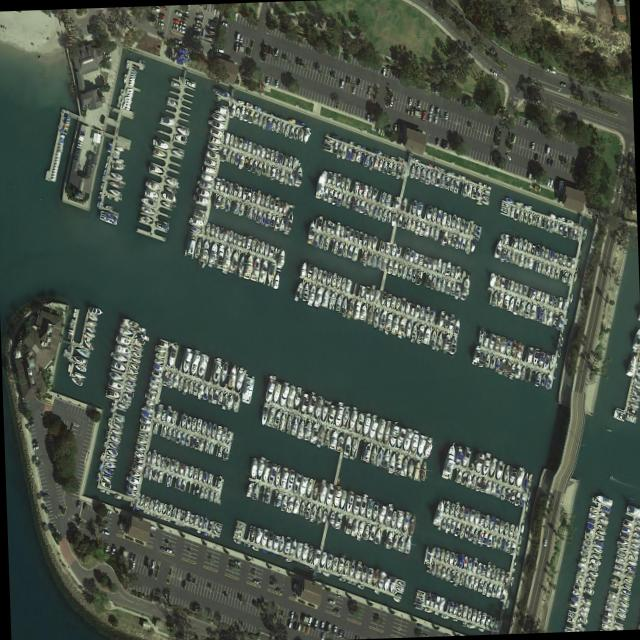ship: (42, 420, 65, 506), (441, 440, 458, 480), (240, 374, 255, 405), (432, 499, 445, 527), (315, 171, 326, 199), (243, 254, 255, 279), (190, 349, 201, 376), (181, 347, 192, 374), (283, 210, 294, 236), (460, 275, 471, 301), (227, 362, 238, 388), (99, 210, 118, 225), (250, 256, 261, 281), (258, 259, 269, 284), (196, 354, 207, 378), (229, 249, 240, 272), (265, 262, 276, 285), (278, 384, 289, 407), (264, 381, 275, 404), (402, 428, 413, 451), (388, 424, 399, 447), (313, 285, 324, 308), (626, 354, 637, 377), (595, 493, 613, 507), (222, 246, 232, 271), (122, 317, 141, 330), (276, 248, 287, 270), (215, 243, 225, 267), (286, 385, 296, 409), (315, 424, 325, 448), (213, 87, 231, 100), (423, 545, 434, 566), (279, 467, 289, 490), (332, 485, 342, 508), (294, 166, 304, 188), (354, 412, 364, 434), (167, 345, 177, 367), (368, 417, 378, 439), (324, 483, 334, 505), (387, 452, 397, 474), (471, 344, 481, 366), (293, 280, 303, 302), (209, 241, 218, 265), (343, 434, 352, 458), (310, 421, 319, 445), (307, 283, 316, 307), (355, 520, 365, 541), (423, 439, 433, 460), (409, 433, 419, 454), (396, 427, 406, 448), (515, 467, 525, 488), (474, 452, 484, 473), (390, 314, 400, 335), (140, 195, 156, 208), (201, 239, 210, 262), (334, 405, 343, 428), (314, 395, 323, 418), (394, 453, 403, 476), (108, 370, 125, 382), (375, 419, 385, 439), (298, 476, 308, 496), (292, 474, 302, 494), (362, 442, 372, 462), (377, 504, 387, 524), (416, 435, 426, 455), (408, 513, 417, 535), (219, 361, 228, 383), (212, 361, 221, 383), (384, 505, 393, 527), (372, 307, 381, 329), (612, 408, 626, 422), (82, 337, 95, 352), (75, 345, 90, 358), (116, 334, 132, 346), (72, 354, 88, 366), (108, 379, 124, 391), (187, 235, 196, 256), (237, 253, 246, 274), (235, 370, 244, 391), (362, 415, 371, 436), (320, 400, 329, 421), (272, 382, 281, 403), (382, 422, 391, 443), (286, 471, 295, 492), (358, 495, 367, 516), (352, 495, 361, 516), (345, 493, 354, 514), (267, 463, 276, 484), (260, 405, 269, 426), (266, 406, 275, 427), (329, 429, 338, 450), (303, 421, 312, 442), (353, 300, 362, 321), (209, 119, 226, 130), (114, 344, 131, 355), (193, 239, 202, 259), (149, 164, 164, 176), (153, 147, 168, 159), (111, 360, 126, 372), (377, 570, 386, 590), (307, 395, 316, 415), (300, 393, 309, 413), (305, 477, 314, 497), (375, 448, 384, 468), (272, 410, 281, 430), (290, 417, 299, 437), (296, 420, 305, 440), (502, 463, 511, 483), (321, 288, 330, 308), (301, 282, 310, 302), (384, 312, 393, 332), (493, 239, 502, 259), (112, 352, 128, 363), (319, 482, 327, 504), (401, 513, 410, 532), (260, 528, 269, 547), (389, 510, 398, 529), (348, 410, 357, 429), (341, 408, 350, 427), (293, 389, 302, 408), (285, 495, 294, 514), (350, 518, 359, 537), (256, 459, 265, 478), (382, 449, 391, 468), (251, 482, 260, 501), (481, 456, 490, 475), (461, 449, 470, 468), (442, 332, 451, 351), (397, 316, 406, 335), (423, 326, 432, 345), (70, 375, 83, 388), (176, 125, 190, 137), (413, 460, 421, 481), (407, 457, 415, 478), (201, 164, 216, 175), (212, 112, 227, 123), (155, 140, 170, 151), (161, 191, 176, 202), (119, 326, 134, 337), (141, 205, 156, 216), (289, 537, 298, 555), (283, 536, 292, 554), (388, 575, 397, 593), (371, 567, 380, 585), (280, 494, 289, 512), (454, 448, 463, 466), (88, 306, 104, 316), (312, 480, 320, 500), (262, 462, 270, 482), (165, 176, 178, 188), (209, 127, 223, 138), (147, 181, 161, 192), (250, 457, 257, 479), (312, 549, 321, 566), (472, 224, 481, 241), (537, 351, 546, 368), (404, 536, 412, 555), (385, 531, 393, 550), (365, 566, 373, 585), (396, 510, 404, 529), (221, 391, 229, 410), (365, 500, 373, 519), (345, 516, 353, 535), (339, 490, 347, 509), (400, 457, 408, 476), (369, 446, 377, 465), (350, 438, 358, 457), (336, 434, 344, 453), (495, 461, 503, 480), (488, 459, 496, 478), (328, 291, 336, 310), (449, 336, 457, 355), (366, 304, 374, 323), (379, 309, 387, 328), (512, 297, 520, 316), (144, 189, 159, 199), (308, 219, 315, 240), (147, 528, 155, 546), (255, 527, 263, 545), (360, 564, 368, 582), (354, 563, 362, 581), (325, 552, 333, 570), (328, 405, 336, 423), (304, 501, 312, 519), (155, 403, 163, 421), (526, 347, 534, 365), (340, 297, 348, 315), (347, 298, 355, 316), (359, 303, 367, 321), (299, 261, 307, 279), (453, 317, 461, 335), (429, 328, 437, 346), (171, 147, 184, 158), (174, 133, 187, 144), (110, 170, 123, 181), (109, 187, 122, 198), (206, 143, 220, 153), (195, 195, 209, 205), (191, 217, 205, 227), (107, 389, 121, 399), (155, 221, 169, 231), (274, 466, 281, 486), (420, 461, 427, 481), (220, 426, 228, 443), (210, 422, 218, 439), (397, 535, 405, 552), (295, 542, 303, 559), (248, 525, 256, 542), (383, 575, 391, 592), (337, 557, 345, 574), (162, 370, 170, 387), (309, 503, 317, 520), (374, 527, 382, 544), (362, 524, 370, 541), (371, 504, 379, 521), (534, 371, 542, 388), (488, 333, 496, 350), (415, 269, 423, 286), (417, 324, 425, 341), (518, 300, 526, 317), (502, 293, 510, 310), (303, 126, 310, 145), (279, 412, 286, 431), (625, 413, 637, 424), (208, 135, 221, 145), (206, 150, 219, 160), (204, 157, 217, 167), (199, 180, 212, 190), (163, 184, 176, 194), (74, 363, 87, 373), (127, 475, 140, 485), (429, 275, 437, 291), (165, 407, 173, 423), (272, 534, 280, 550), (301, 545, 309, 561), (331, 556, 339, 572), (167, 372, 175, 388), (292, 498, 300, 514), (368, 525, 376, 541), (444, 518, 452, 534), (453, 522, 461, 538), (499, 485, 507, 501), (429, 170, 437, 186), (504, 359, 512, 375), (477, 327, 485, 343), (415, 201, 423, 217), (457, 552, 465, 568), (490, 291, 498, 307), (193, 210, 207, 219), (161, 117, 175, 126), (273, 272, 280, 290), (109, 180, 123, 189), (278, 534, 285, 552), (334, 512, 341, 530), (522, 472, 529, 490), (494, 334, 501, 352), (335, 294, 342, 312), (529, 303, 536, 321), (199, 188, 211, 198), (161, 199, 173, 209), (391, 261, 399, 276), (499, 357, 507, 372), (325, 271, 333, 286), (454, 283, 461, 300), (202, 384, 209, 401), (197, 383, 204, 400), (509, 467, 516, 484), (472, 528, 479, 545), (475, 476, 482, 493), (548, 354, 555, 371), (448, 314, 455, 331), (545, 372, 552, 389), (524, 302, 531, 319), (557, 314, 564, 331), (74, 371, 87, 380), (104, 461, 117, 470), (139, 423, 152, 432), (245, 234, 252, 250), (327, 188, 334, 204), (331, 190, 338, 206), (371, 206, 379, 220), (368, 155, 375, 171), (229, 103, 236, 119), (238, 154, 245, 170), (220, 147, 227, 163), (215, 425, 222, 441), (205, 421, 212, 437), (200, 419, 207, 435), (185, 415, 192, 431), (320, 551, 327, 567), (348, 562, 355, 578), (227, 393, 234, 409), (298, 500, 305, 516), (328, 510, 335, 526), (246, 482, 253, 498), (324, 430, 331, 446), (401, 264, 408, 280), (387, 259, 394, 275), (514, 491, 521, 507), (488, 515, 495, 531), (470, 474, 477, 490), (419, 167, 426, 183), (425, 169, 432, 185), (499, 338, 506, 354), (505, 340, 512, 356), (543, 354, 550, 370), (410, 199, 417, 215), (306, 263, 313, 279), (436, 331, 443, 347), (486, 582, 493, 598), (546, 310, 553, 326), (541, 307, 548, 323), (535, 306, 542, 322), (201, 173, 213, 182), (138, 430, 150, 439), (133, 449, 145, 458), (100, 480, 112, 489), (105, 454, 117, 463), (141, 410, 153, 419), (278, 217, 285, 232), (265, 211, 272, 226), (258, 240, 265, 255), (440, 278, 447, 293), (425, 273, 432, 288), (325, 219, 332, 234), (343, 226, 350, 241), (256, 161, 263, 176), (218, 177, 225, 192), (392, 534, 399, 549), (180, 413, 187, 428), (190, 417, 197, 432), (307, 546, 314, 561), (217, 390, 224, 405), (192, 381, 199, 396), (187, 379, 194, 394), (177, 376, 184, 391), (316, 506, 323, 521), (396, 263, 403, 278), (469, 508, 476, 523), (486, 533, 493, 548), (460, 471, 467, 486), (465, 473, 472, 488), (495, 483, 502, 498), (464, 238, 471, 253), (454, 235, 461, 250), (450, 213, 457, 228), (426, 205, 433, 220), (414, 165, 421, 180), (434, 172, 441, 187), (439, 174, 446, 189), (516, 344, 523, 359), (509, 363, 516, 378), (532, 350, 539, 365), (414, 220, 421, 235), (479, 350, 486, 365), (489, 354, 496, 369), (224, 198, 231, 213), (330, 273, 337, 288), (311, 266, 318, 281), (380, 257, 387, 272), (337, 241, 344, 256), (332, 239, 339, 254), (322, 236, 329, 251), (318, 234, 325, 249), (313, 233, 320, 248), (438, 312, 445, 327), (442, 313, 449, 328), (524, 367, 531, 382), (485, 563, 492, 578), (430, 561, 437, 576), (444, 567, 451, 582), (481, 580, 488, 595), (477, 578, 484, 593), (497, 292, 504, 307), (139, 417, 152, 425), (264, 487, 270, 504), (459, 523, 465, 540), (191, 225, 202, 234), (85, 330, 96, 339), (114, 414, 125, 423), (124, 384, 135, 393), (110, 434, 121, 443), (107, 448, 118, 457), (126, 489, 137, 498), (149, 381, 160, 390), (590, 558, 601, 567), (222, 228, 229, 242), (247, 206, 254, 220), (381, 209, 388, 223), (386, 161, 393, 175), (366, 185, 373, 199), (233, 201, 240, 215), (406, 266, 413, 280), (363, 154, 370, 168), (219, 196, 226, 210), (247, 110, 254, 124), (288, 125, 295, 139), (216, 475, 223, 489), (187, 464, 194, 478), (164, 457, 171, 471), (188, 435, 195, 449), (182, 378, 189, 392), (172, 374, 179, 388), (508, 523, 515, 537), (483, 514, 490, 528), (485, 480, 492, 494), (440, 212, 447, 226), (443, 176, 450, 190), (448, 178, 455, 192), (461, 184, 468, 198), (400, 197, 407, 211), (484, 353, 491, 367), (320, 270, 327, 284), (347, 245, 354, 259), (342, 243, 349, 257), (399, 299, 406, 313), (480, 612, 487, 626), (438, 597, 445, 611), (435, 564, 442, 578), (443, 550, 450, 564), (448, 551, 455, 565), (454, 570, 461, 584), (449, 569, 456, 583), (508, 297, 515, 311), (445, 260, 451, 276), (196, 418, 202, 434), (267, 532, 273, 548), (343, 559, 349, 575), (208, 386, 214, 402), (129, 470, 141, 478), (286, 414, 292, 430), (474, 510, 480, 526), (515, 363, 521, 379), (423, 305, 429, 321), (414, 303, 420, 319), (204, 222, 211, 235), (260, 212, 267, 225), (140, 216, 153, 223), (330, 173, 337, 186), (384, 193, 391, 206), (352, 230, 359, 243), (384, 241, 391, 254), (350, 149, 357, 162), (225, 149, 232, 162), (214, 177, 221, 190), (336, 143, 343, 156), (279, 122, 286, 135), (184, 510, 191, 523), (150, 452, 157, 465), (493, 518, 500, 531), (490, 482, 497, 495), (405, 217, 412, 230), (417, 253, 424, 266), (373, 290, 380, 303), (495, 586, 502, 599), (167, 98, 177, 107), (186, 80, 196, 89), (263, 242, 269, 257), (135, 337, 145, 346), (113, 421, 123, 430), (127, 373, 137, 382), (336, 192, 342, 207), (317, 216, 323, 231), (450, 281, 456, 296), (445, 280, 451, 295), (335, 222, 341, 237), (252, 159, 258, 174), (279, 169, 285, 184), (341, 145, 347, 160), (175, 430, 181, 445), (171, 409, 177, 424), (136, 443, 146, 452), (103, 467, 113, 476), (152, 369, 162, 378), (276, 492, 282, 507), (617, 543, 627, 552), (454, 503, 460, 518), (464, 507, 470, 522), (519, 492, 525, 507), (510, 489, 516, 504), (505, 487, 511, 502), (503, 521, 509, 536), (468, 526, 474, 541), (619, 599, 629, 608), (617, 605, 627, 614), (456, 469, 462, 484), (513, 524, 519, 539), (431, 207, 437, 222), (410, 164, 416, 179), (510, 342, 516, 357), (520, 366, 526, 381), (419, 222, 425, 237), (352, 246, 358, 261), (419, 305, 425, 320), (475, 609, 481, 624), (434, 595, 440, 610), (467, 556, 473, 571), (440, 566, 446, 581), (500, 587, 506, 602), (489, 273, 495, 288), (552, 311, 558, 326), (108, 441, 119, 449), (85, 325, 96, 333), (129, 362, 140, 370), (156, 346, 167, 354), (132, 463, 143, 471), (127, 483, 138, 491), (137, 437, 148, 445), (155, 352, 166, 360), (150, 376, 161, 384), (146, 393, 157, 401), (144, 405, 155, 413), (595, 534, 606, 542), (593, 540, 604, 548), (592, 546, 603, 554), (591, 552, 602, 560), (584, 587, 595, 595), (622, 520, 633, 528), (629, 401, 640, 409), (268, 245, 274, 259), (232, 231, 238, 245), (218, 227, 224, 241), (209, 223, 215, 237), (256, 209, 262, 223), (250, 238, 256, 252), (272, 246, 278, 260), (254, 240, 260, 254), (117, 402, 129, 409), (238, 202, 244, 216), (326, 171, 332, 185), (363, 202, 369, 216), (368, 203, 374, 217), (390, 213, 396, 227), (323, 187, 329, 201), (382, 160, 388, 174), (391, 163, 397, 177), (396, 165, 402, 179), (362, 184, 368, 198), (353, 180, 359, 194), (431, 258, 437, 272), (454, 266, 460, 280), (435, 277, 441, 291), (411, 268, 417, 282), (409, 249, 415, 263), (357, 231, 363, 245), (371, 236, 377, 250), (391, 243, 397, 257), (404, 247, 410, 261), (234, 152, 240, 166), (247, 158, 253, 172), (270, 166, 276, 180), (283, 171, 289, 185), (287, 155, 293, 169), (215, 195, 222, 207), (242, 187, 248, 201), (273, 198, 279, 212), (239, 107, 245, 121), (243, 108, 249, 122), (224, 132, 230, 146), (284, 124, 290, 138), (208, 489, 214, 503), (139, 493, 145, 507), (198, 438, 204, 452), (222, 446, 228, 460), (225, 430, 231, 444), (194, 437, 200, 451), (166, 427, 172, 441), (213, 388, 219, 402), (232, 397, 238, 411), (321, 509, 327, 523), (450, 520, 456, 534), (444, 500, 450, 514), (449, 502, 455, 516), (459, 506, 465, 520), (498, 520, 504, 534), (477, 530, 483, 544), (505, 540, 511, 554), (510, 542, 516, 556), (436, 210, 442, 224), (442, 230, 448, 244), (453, 179, 459, 193), (495, 356, 501, 370), (401, 215, 407, 229), (232, 183, 238, 197), (335, 275, 341, 289), (345, 279, 351, 293), (223, 180, 229, 194), (367, 252, 373, 266), (364, 286, 370, 300), (369, 287, 375, 301), (380, 292, 386, 306), (429, 309, 435, 323), (385, 294, 391, 308), (395, 297, 401, 311), (540, 373, 546, 387), (471, 608, 477, 622), (457, 603, 463, 617), (448, 600, 454, 614), (582, 227, 588, 241), (471, 560, 477, 574), (476, 561, 482, 575), (499, 570, 505, 584), (429, 593, 435, 607), (425, 592, 431, 606), (468, 575, 474, 589), (530, 288, 537, 300), (517, 237, 523, 251), (522, 238, 528, 252), (518, 254, 524, 268), (140, 333, 149, 342), (627, 564, 636, 573), (620, 593, 629, 602), (170, 80, 180, 88), (131, 356, 141, 364), (132, 350, 142, 358), (133, 344, 143, 352), (88, 314, 98, 322), (102, 474, 112, 482), (146, 399, 156, 407), (616, 550, 626, 558), (619, 538, 629, 546), (621, 526, 631, 534), (601, 505, 611, 513), (599, 511, 609, 519), (581, 598, 591, 606), (608, 592, 618, 600), (604, 604, 614, 612), (627, 559, 637, 567), (625, 570, 635, 578), (616, 611, 626, 619), (411, 324, 416, 340), (630, 395, 640, 403), (274, 216, 280, 229), (345, 196, 351, 209), (354, 199, 360, 212), (359, 200, 365, 213), (386, 210, 392, 223), (335, 175, 341, 188), (373, 156, 379, 169), (377, 159, 383, 172), (394, 196, 400, 209), (380, 191, 386, 204), (371, 188, 377, 201), (321, 220, 327, 233), (436, 257, 442, 270), (426, 257, 432, 270), (348, 228, 354, 241), (362, 233, 368, 246), (291, 157, 297, 170), (237, 185, 243, 198), (264, 195, 270, 208), (282, 202, 288, 215), (237, 137, 243, 150), (246, 141, 252, 154), (332, 141, 338, 154), (346, 147, 352, 160), (257, 114, 263, 127), (261, 117, 267, 130), (266, 117, 272, 130), (275, 120, 281, 133), (293, 127, 299, 140), (203, 487, 209, 500), (197, 469, 203, 482), (174, 460, 180, 473), (193, 514, 199, 527), (166, 503, 172, 516), (153, 499, 159, 512), (143, 466, 149, 479), (169, 459, 175, 472), (203, 440, 209, 453), (217, 445, 223, 458), (146, 450, 152, 463), (161, 425, 167, 438), (160, 408, 166, 421), (482, 532, 488, 545), (470, 240, 476, 253), (463, 222, 469, 235), (451, 234, 457, 247), (446, 233, 452, 246), (466, 184, 472, 197), (433, 228, 439, 241), (424, 224, 430, 237), (410, 219, 416, 232), (397, 214, 403, 227), (440, 261, 446, 274), (340, 278, 346, 291), (376, 255, 382, 268), (371, 254, 377, 267), (261, 162, 267, 175), (250, 190, 256, 203), (255, 192, 261, 205), (390, 296, 396, 309), (504, 571, 510, 584), (485, 614, 491, 627), (462, 605, 468, 618), (453, 602, 459, 615), (439, 548, 445, 561), (491, 584, 497, 597), (473, 577, 479, 590), (463, 574, 469, 587), (495, 274, 501, 287), (557, 296, 563, 309), (505, 250, 511, 263), (513, 208, 519, 221), (570, 257, 576, 270), (549, 265, 555, 278), (562, 271, 568, 284), (251, 208, 258, 219), (133, 457, 144, 464), (152, 364, 163, 371), (619, 532, 630, 539), (568, 600, 579, 607), (466, 623, 477, 630), (471, 185, 476, 200), (362, 251, 367, 266), (236, 234, 242, 246), (112, 164, 124, 170), (413, 252, 419, 264), (355, 150, 361, 162), (246, 189, 252, 201), (253, 112, 259, 124), (175, 477, 181, 489), (180, 479, 186, 491), (213, 491, 219, 503), (183, 465, 189, 477), (198, 515, 204, 527), (175, 508, 181, 520), (143, 496, 149, 508), (152, 423, 158, 435), (180, 432, 186, 444), (589, 564, 598, 572), (599, 517, 608, 525), (607, 598, 616, 606), (578, 561, 587, 569), (441, 517, 447, 529), (496, 537, 502, 549), (464, 526, 470, 538), (631, 541, 640, 549), (629, 553, 638, 561), (535, 244, 541, 256), (460, 238, 466, 250), (455, 217, 461, 229), (483, 336, 489, 348), (316, 269, 322, 281), (536, 215, 542, 227), (545, 219, 551, 231), (434, 547, 440, 559), (462, 556, 468, 568), (500, 277, 506, 289), (512, 237, 518, 249), (501, 248, 507, 260), (536, 261, 542, 273), (214, 225, 219, 239), (87, 320, 97, 327), (288, 173, 293, 187), (271, 118, 276, 132), (202, 470, 207, 484), (203, 516, 208, 530), (148, 388, 158, 395), (596, 529, 606, 536), (588, 570, 598, 577), (597, 523, 607, 530), (615, 557, 625, 564), (578, 616, 588, 623), (621, 588, 631, 595), (440, 614, 450, 621), (549, 220, 554, 234), (453, 552, 458, 566), (459, 572, 464, 586), (527, 212, 532, 226), (505, 197, 515, 204), (518, 209, 523, 223), (359, 153, 365, 164), (234, 107, 240, 118), (179, 464, 185, 475), (152, 470, 158, 481), (509, 576, 515, 587), (553, 222, 559, 233), (535, 289, 541, 300), (539, 291, 545, 302), (503, 234, 509, 245), (527, 258, 533, 269), (540, 263, 546, 274), (545, 265, 551, 276), (270, 214, 275, 227), (377, 208, 382, 221), (340, 176, 345, 189), (450, 265, 455, 278), (266, 164, 271, 177), (283, 154, 288, 167), (269, 149, 274, 162), (230, 151, 235, 164), (228, 182, 233, 195), (260, 193, 265, 206), (256, 144, 261, 157), (229, 134, 234, 147), (298, 128, 303, 141), (199, 486, 204, 499), (207, 472, 212, 485), (193, 467, 198, 480), (166, 475, 171, 488), (148, 468, 153, 481), (208, 441, 213, 454), (156, 453, 161, 466), (171, 429, 176, 442), (185, 434, 190, 447), (446, 213, 451, 226), (468, 223, 473, 236), (429, 226, 434, 239), (360, 285, 365, 298), (278, 152, 283, 165), (467, 607, 472, 620), (563, 225, 568, 238), (481, 564, 486, 577), (495, 569, 500, 582), (562, 298, 567, 311), (540, 245, 545, 258), (510, 251, 515, 264), (567, 273, 572, 286), (554, 267, 559, 280), (322, 570, 330, 578), (632, 535, 640, 543), (406, 321, 410, 337), (632, 389, 640, 397), (122, 397, 131, 404), (129, 368, 138, 375), (115, 145, 124, 152), (374, 149, 383, 156), (324, 137, 333, 144), (254, 105, 263, 112), (396, 586, 405, 593), (160, 342, 169, 349), (585, 528, 594, 535), (587, 576, 596, 583), (586, 581, 595, 588), (586, 523, 595, 530), (588, 512, 597, 519), (613, 569, 622, 576), (614, 563, 623, 570), (579, 610, 588, 617), (577, 622, 586, 629), (572, 589, 581, 596), (573, 584, 582, 591), (579, 550, 588, 557), (630, 548, 639, 555), (624, 577, 633, 584), (602, 623, 611, 630), (603, 617, 612, 624), (414, 604, 423, 611), (241, 236, 246, 248), (112, 429, 122, 435), (126, 380, 136, 386), (342, 194, 347, 206), (423, 256, 428, 268), (330, 223, 335, 235), (367, 236, 372, 248), (380, 241, 385, 253), (395, 246, 400, 258), (275, 168, 280, 180), (269, 197, 274, 209), (278, 201, 283, 213), (233, 136, 238, 148), (242, 139, 247, 151), (157, 471, 162, 483), (160, 456, 165, 468), (154, 359, 164, 365), (501, 539, 506, 551), (479, 514, 484, 526), (99, 452, 105, 462), (274, 151, 279, 163), (405, 302, 410, 314), (540, 217, 545, 229), (490, 567, 495, 579), (522, 284, 527, 296), (509, 279, 514, 291), (557, 252, 562, 264), (549, 250, 554, 262), (523, 211, 528, 223), (523, 257, 528, 269), (138, 326, 146, 333), (246, 102, 254, 109), (392, 596, 400, 603), (397, 580, 405, 587), (251, 545, 259, 552), (233, 538, 241, 545), (581, 605, 589, 612), (571, 595, 579, 602), (579, 556, 587, 563), (624, 582, 631, 590), (416, 591, 424, 598), (481, 199, 489, 206), (567, 218, 575, 225), (424, 607, 432, 614), (501, 201, 509, 208), (122, 73, 127, 84), (125, 59, 130, 70), (260, 147, 265, 158), (265, 148, 270, 159), (189, 513, 194, 524), (171, 507, 176, 518), (162, 503, 167, 514), (148, 498, 153, 509), (460, 220, 465, 231), (568, 227, 573, 238), (572, 229, 577, 240), (518, 283, 523, 294), (513, 282, 518, 293), (557, 347, 562, 358), (559, 336, 564, 347), (562, 254, 567, 265), (544, 248, 549, 259), (510, 207, 515, 218), (566, 256, 571, 267), (573, 272, 578, 283), (514, 253, 519, 264), (526, 242, 531, 253), (323, 143, 332, 149), (212, 529, 221, 535), (581, 545, 590, 551), (611, 581, 620, 587), (566, 617, 575, 623), (567, 611, 576, 617), (605, 611, 614, 617), (515, 201, 524, 207), (72, 308, 77, 318), (158, 502, 163, 512), (520, 524, 525, 534), (505, 599, 510, 609), (548, 295, 553, 305), (544, 294, 549, 304), (357, 583, 364, 590), (633, 530, 640, 537), (633, 383, 640, 390), (105, 204, 113, 210), (340, 226, 344, 238), (252, 143, 256, 155), (236, 522, 244, 528), (243, 542, 251, 548), (233, 533, 241, 539), (235, 528, 243, 534), (114, 494, 122, 500), (584, 534, 592, 540), (589, 507, 597, 513), (575, 579, 583, 585), (576, 573, 584, 579), (415, 598, 423, 604), (557, 215, 565, 221), (532, 214, 536, 226), (500, 207, 508, 213), (524, 204, 532, 210), (116, 100, 121, 109), (208, 520, 213, 529), (180, 510, 185, 519), (97, 191, 102, 200), (530, 244, 535, 253), (553, 298, 558, 307), (110, 402, 114, 413), (410, 305, 414, 316), (527, 491, 531, 502), (518, 534, 522, 545), (525, 501, 529, 512), (553, 252, 557, 263), (237, 99, 244, 105), (114, 148, 120, 155), (215, 524, 222, 530), (339, 577, 346, 583), (588, 518, 595, 524), (583, 539, 590, 545), (578, 567, 585, 573), (482, 194, 489, 200), (549, 213, 556, 219), (107, 417, 111, 427), (117, 94, 122, 102), (104, 430, 109, 438), (516, 545, 520, 555), (569, 293, 573, 303), (289, 203, 295, 209), (124, 393, 133, 397), (100, 182, 104, 191), (115, 159, 124, 163), (96, 472, 100, 481), (374, 589, 380, 595), (128, 86, 134, 92), (478, 626, 484, 632), (396, 592, 402, 598), (559, 226, 563, 235), (201, 262, 206, 269), (104, 162, 109, 169), (297, 121, 304, 126), (269, 375, 276, 380), (384, 329, 389, 336), (131, 69, 138, 74), (57, 141, 64, 146), (102, 169, 107, 176), (451, 617, 458, 622), (109, 351, 114, 358), (102, 175, 106, 183), (120, 88, 124, 96), (288, 119, 296, 123), (98, 463, 102, 471), (96, 201, 100, 209), (106, 155, 110, 163), (67, 352, 71, 360), (67, 345, 71, 353), (564, 317, 568, 325), (106, 195, 112, 200), (51, 174, 57, 179), (56, 151, 62, 156), (635, 524, 640, 530), (69, 321, 74, 327), (410, 339, 416, 344), (128, 82, 134, 87), (129, 80, 135, 85), (138, 66, 144, 71), (261, 548, 267, 553), (338, 400, 344, 405), (126, 98, 132, 103), (125, 104, 131, 109), (484, 189, 490, 194), (55, 159, 60, 165), (577, 231, 580, 241), (113, 155, 120, 159), (285, 558, 292, 562), (130, 72, 137, 76), (56, 149, 63, 153), (554, 362, 558, 369), (122, 102, 126, 109), (553, 371, 556, 380), (207, 263, 212, 268), (114, 197, 119, 202), (60, 134, 65, 139), (51, 177, 56, 182), (52, 171, 57, 176), (53, 168, 58, 173), (56, 157, 61, 162), (397, 334, 402, 339), (416, 340, 421, 345), (499, 258, 504, 263), (388, 503, 393, 508), (372, 413, 377, 418), (349, 455, 354, 460), (346, 579, 351, 584), (127, 95, 132, 100), (636, 518, 640, 524), (63, 349, 66, 357), (57, 146, 63, 150), (57, 144, 63, 148), (269, 552, 275, 556), (68, 364, 71, 372), (487, 286, 493, 290), (130, 75, 137, 78), (126, 87, 129, 94), (216, 265, 221, 269), (222, 270, 227, 274), (54, 163, 59, 167), (56, 154, 61, 158), (350, 140, 354, 145), (130, 77, 135, 81), (59, 139, 64, 143), (391, 156, 396, 160), (146, 511, 151, 515), (175, 521, 179, 526), (453, 583, 458, 587), (351, 581, 356, 585), (126, 102, 131, 106), (579, 250, 582, 256), (337, 477, 340, 483), (512, 567, 515, 573), (128, 91, 134, 94), (124, 97, 127, 103), (54, 166, 58, 170), (143, 510, 147, 514), (156, 515, 160, 519), (163, 517, 167, 521), (167, 519, 171, 523), (128, 94, 133, 97), (153, 138, 155, 145), (150, 512, 153, 516), (153, 513, 156, 517), (160, 516, 164, 519)
small-vehicle: (557, 180, 563, 191), (505, 152, 512, 161), (389, 95, 394, 107), (307, 616, 313, 626), (333, 608, 340, 616), (490, 48, 497, 56), (429, 104, 434, 114), (320, 621, 325, 631), (333, 625, 338, 635), (338, 628, 343, 638), (545, 146, 550, 156), (530, 141, 535, 151), (524, 119, 529, 129), (268, 45, 273, 55), (234, 559, 241, 566), (328, 598, 335, 605), (490, 69, 497, 76), (534, 97, 541, 104), (175, 10, 182, 17), (166, 548, 174, 554), (102, 530, 110, 536), (180, 16, 188, 22), (174, 39, 182, 45), (458, 39, 464, 47), (156, 20, 164, 26), (222, 21, 230, 27), (216, 47, 224, 53), (111, 546, 116, 555), (145, 557, 150, 566), (288, 619, 293, 628), (417, 99, 422, 108), (351, 86, 356, 95), (313, 619, 318, 628), (339, 80, 344, 89), (617, 185, 622, 194), (235, 33, 240, 42), (253, 579, 260, 585), (560, 82, 567, 88), (194, 26, 201, 32), (158, 16, 165, 22), (159, 12, 166, 18), (104, 52, 111, 58), (180, 20, 186, 27), (179, 28, 185, 35), (105, 543, 109, 553), (129, 553, 134, 561), (132, 553, 137, 561), (151, 560, 156, 568), (356, 79, 361, 87), (422, 110, 426, 120), (464, 96, 468, 106), (196, 13, 204, 18), (274, 48, 279, 56), (239, 35, 244, 43), (182, 579, 186, 588), (187, 573, 191, 582), (290, 610, 294, 619), (76, 499, 80, 508), (33, 444, 39, 450), (182, 12, 188, 18), (427, 113, 431, 122), (418, 110, 422, 119), (382, 67, 386, 76), (543, 538, 547, 547), (549, 179, 553, 188), (546, 178, 550, 187), (393, 123, 397, 132), (235, 43, 239, 52), (180, 25, 186, 31), (105, 509, 112, 514), (31, 441, 38, 446), (192, 34, 199, 39), (196, 19, 203, 24), (216, 52, 223, 57), (174, 17, 179, 24), (149, 570, 153, 578), (297, 623, 301, 631), (444, 112, 448, 120), (434, 116, 438, 124), (410, 108, 414, 116), (434, 85, 438, 93), (275, 79, 279, 87), (266, 77, 270, 85), (103, 521, 109, 526), (150, 525, 156, 530), (409, 96, 412, 106), (535, 152, 538, 162), (196, 22, 202, 27), (173, 22, 179, 27), (131, 563, 135, 570), (82, 502, 86, 509), (366, 114, 370, 121), (173, 26, 178, 31), (436, 108, 439, 116), (547, 158, 550, 166), (550, 158, 553, 166)
